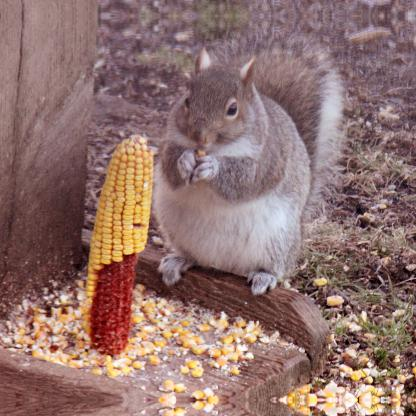Squirrel: (152, 29, 340, 287)
